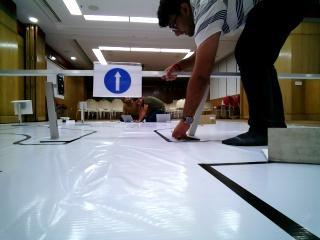straight: (94, 61, 147, 100)
